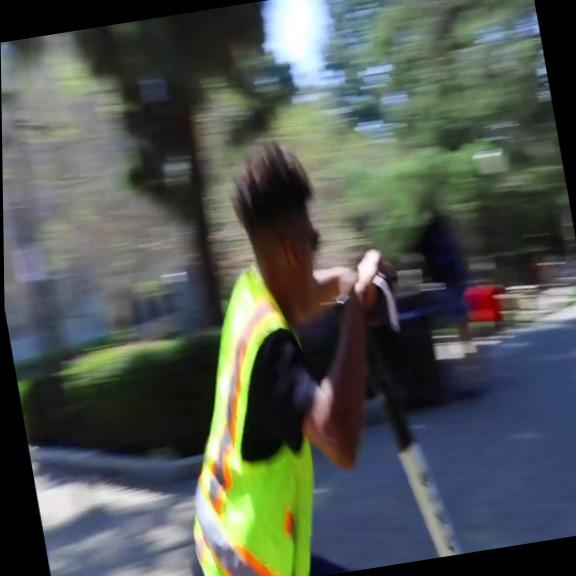safety_vest: (146, 256, 341, 576)
